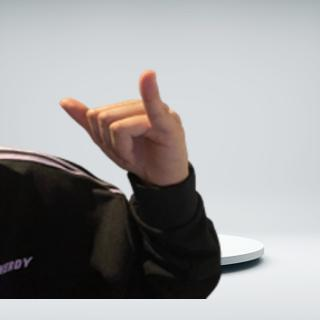HAVE: (56, 64, 189, 190)
